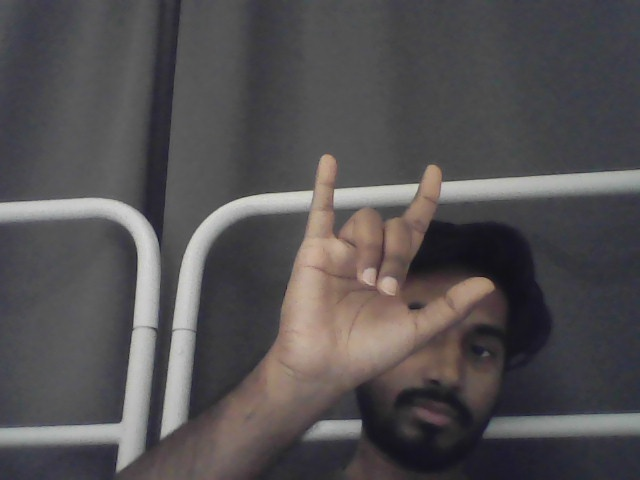iloveyou: (280, 153, 496, 388)
